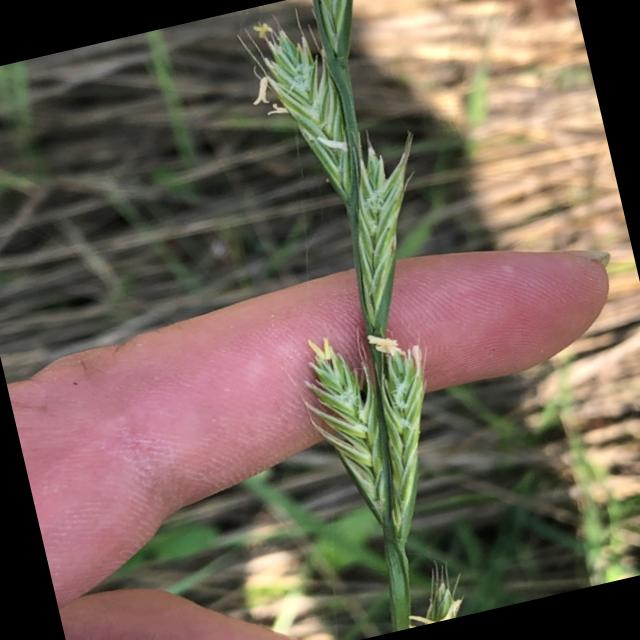Lolium: (212, 0, 522, 637)
